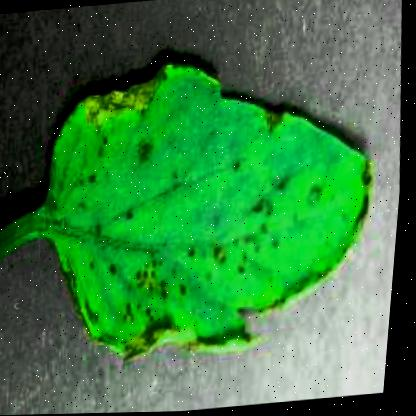BACTERIAL SPOT: (0, 38, 399, 376)
